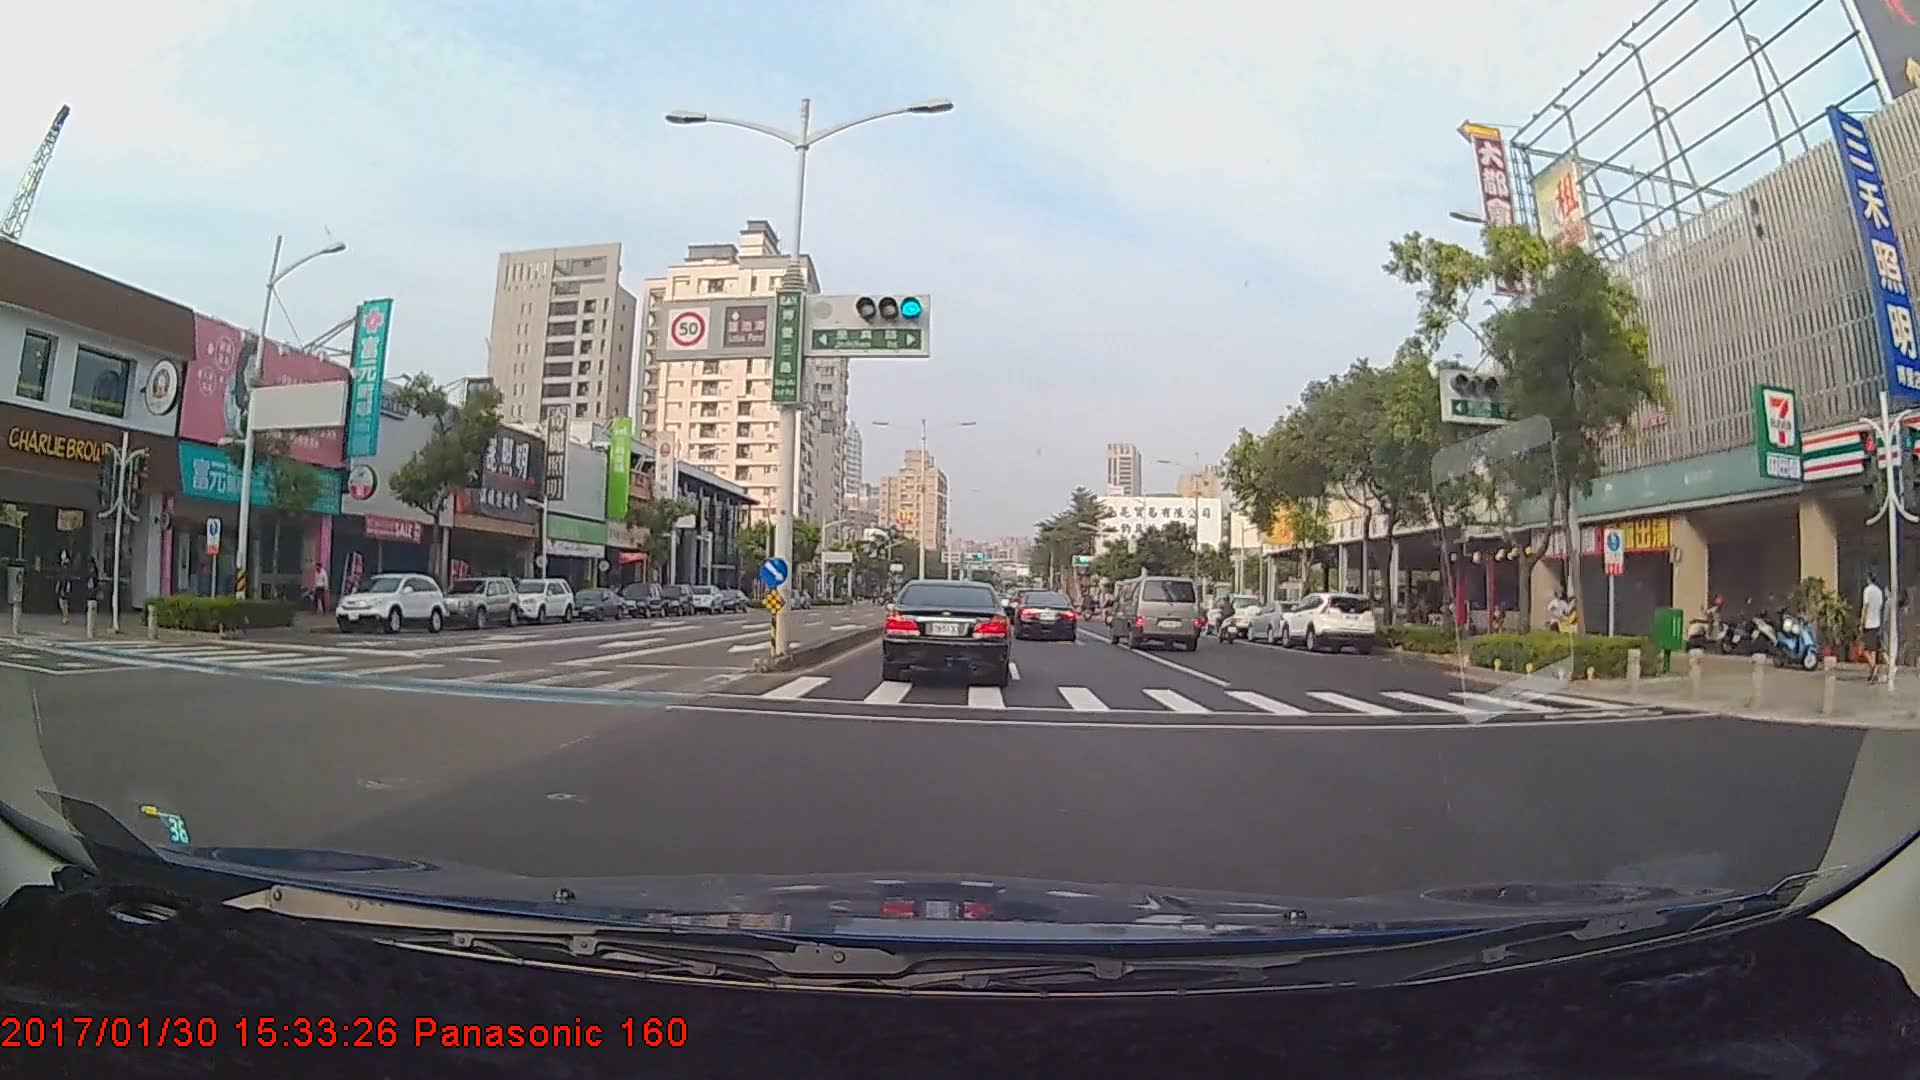pedestrian: (1857, 569, 1888, 679), (1877, 581, 1901, 678), (55, 546, 79, 625), (310, 559, 330, 615)
rider: (1211, 595, 1246, 647)
vehicle: (884, 578, 1009, 683), (1107, 575, 1202, 651), (332, 570, 448, 632), (1276, 589, 1378, 651), (430, 573, 519, 629), (1012, 591, 1080, 643), (504, 576, 575, 626), (1246, 598, 1319, 643), (566, 585, 622, 620), (616, 583, 664, 621), (653, 584, 694, 618)
